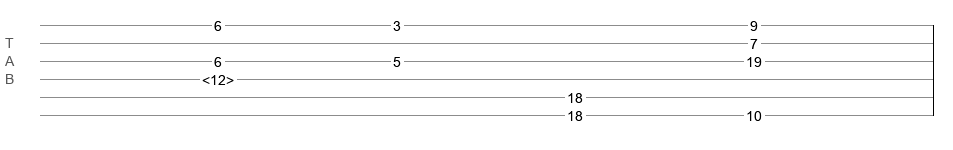10: (746, 108, 762, 118)
18: (567, 90, 583, 100), (567, 108, 583, 118)
19: (746, 54, 762, 64)
3: (393, 18, 401, 28)
5: (393, 54, 401, 64)
6: (214, 54, 222, 64), (214, 18, 222, 28)
7: (750, 36, 758, 46)
9: (750, 18, 758, 28)
harmonic: (202, 72, 234, 82)
